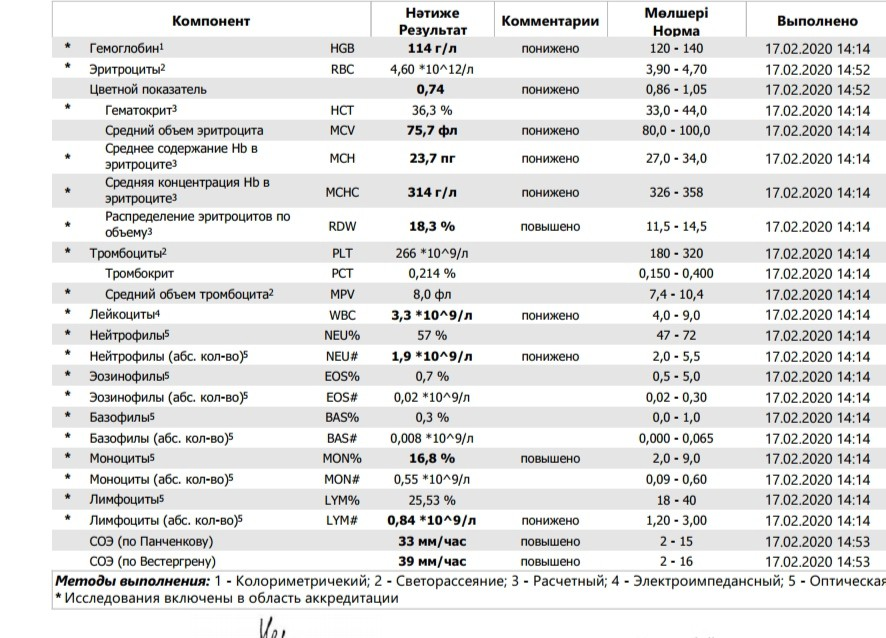column: (63, 0, 362, 571), (764, 0, 871, 571), (500, 0, 600, 571), (386, 0, 477, 571), (637, 0, 714, 571)
